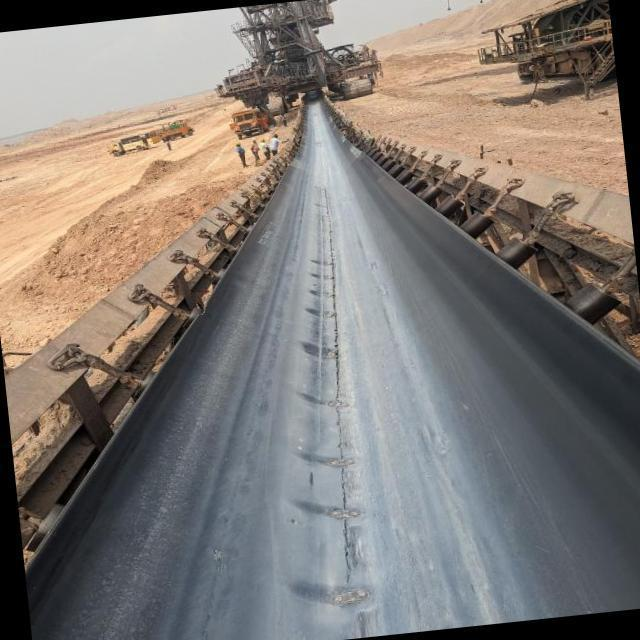Tear: (316, 188, 358, 640)
